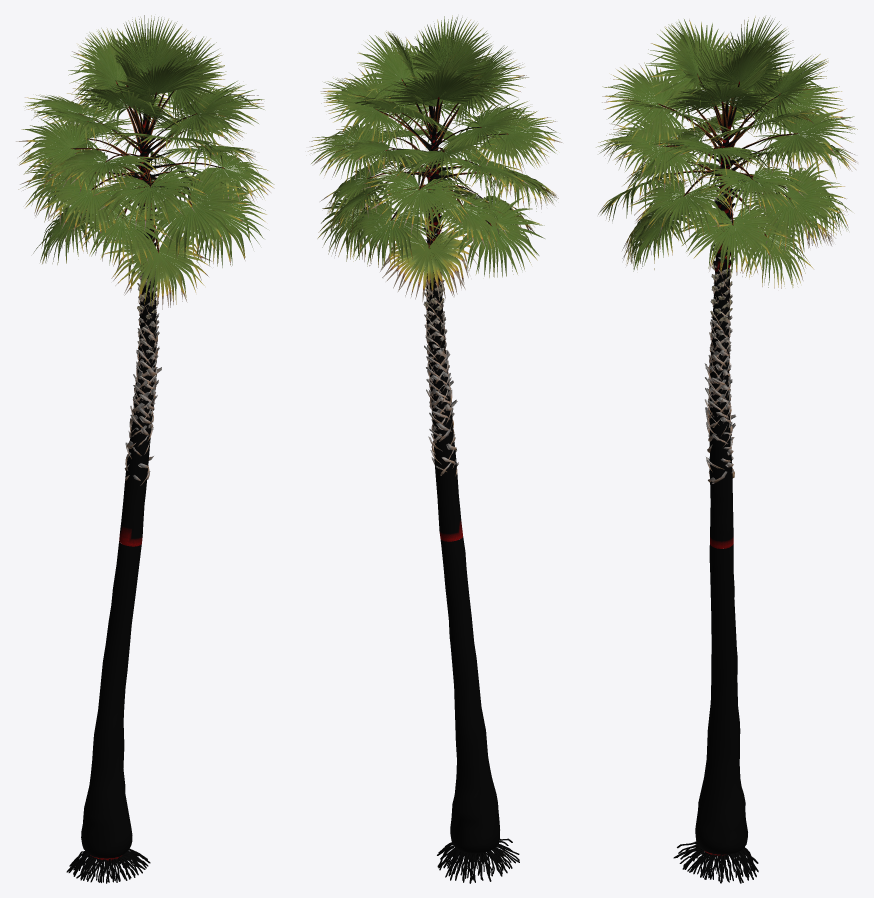
File: palm_fan.glb
3 views of the same model, side by side, from view 1: azimuth 30°, elevation 25°; view 2: azimuth 150°, elevation 25°; view 3: azimuth 270°, elevation 25° (orthographic). The views are drawn at different scales.
Parts seen in each view (by area): view 1: Washingtonia_robusta_HD_V2; view 2: Washingtonia_robusta_HD_V2; view 3: Washingtonia_robusta_HD_V2.
Part boxes in pixels (x1=…): Washingtonia_robusta_HD_V2: x1=16, y1=15, x2=274, y2=883; Washingtonia_robusta_HD_V2: x1=308, y1=15, x2=562, y2=883; Washingtonia_robusta_HD_V2: x1=596, y1=16, x2=857, y2=883.
Size of the model in its own units: 3.92 by 14.04 by 3.89.
Materials: 15 (15 with a texture image).
